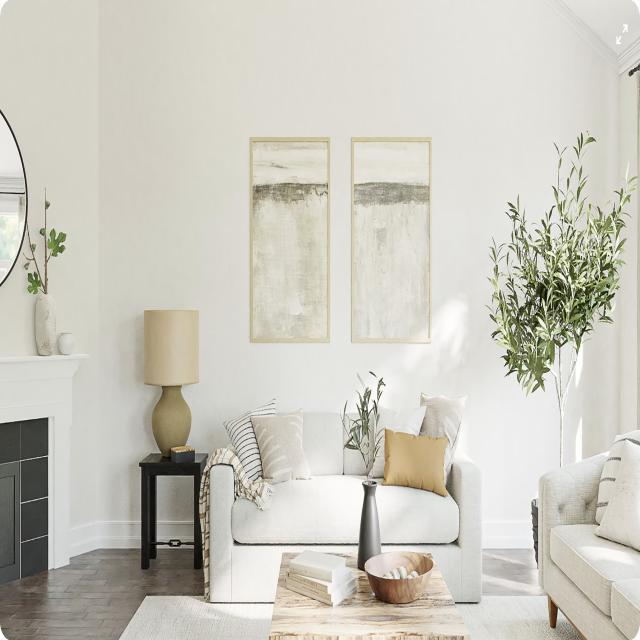book: (285, 547, 354, 611)
lamp: (140, 300, 202, 458)
picture: (349, 134, 432, 347), (248, 140, 332, 348)
pillow: (382, 420, 452, 490), (254, 406, 312, 482)
potted plant: (492, 146, 630, 452), (344, 380, 394, 565), (24, 211, 62, 356)
sofa: (205, 402, 482, 600), (536, 462, 640, 638)
